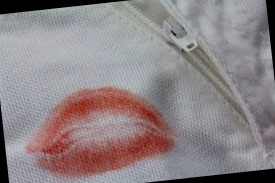lipstick: (28, 81, 178, 178)
